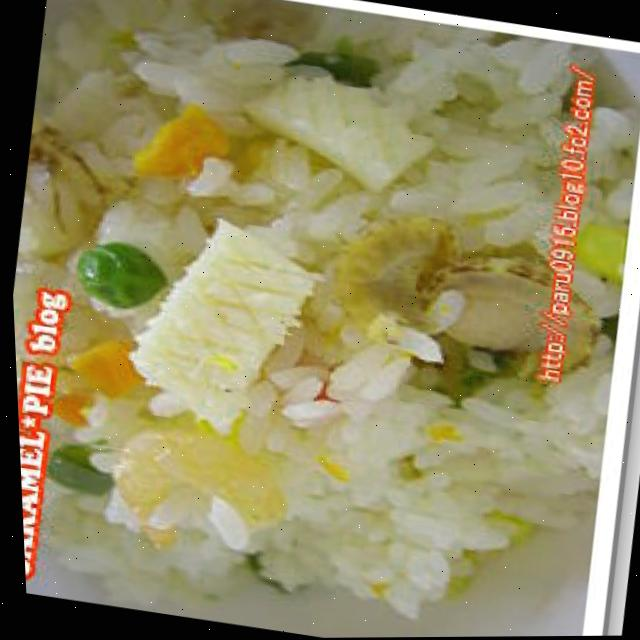米饭主食: (12, 0, 579, 640)
